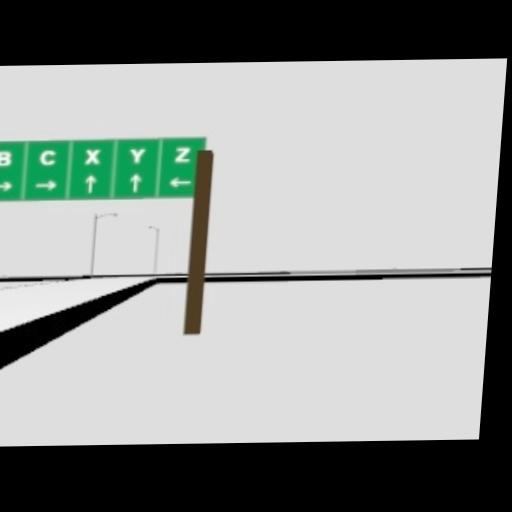B: (0, 149, 12, 166)
C: (37, 149, 55, 166)
Left: (168, 176, 191, 186)
Right: (34, 177, 57, 189), (0, 180, 14, 190)
Straight: (84, 173, 97, 192), (129, 172, 142, 191)
X: (84, 146, 101, 163)
Y: (127, 145, 146, 162)
Z: (173, 144, 192, 160)
